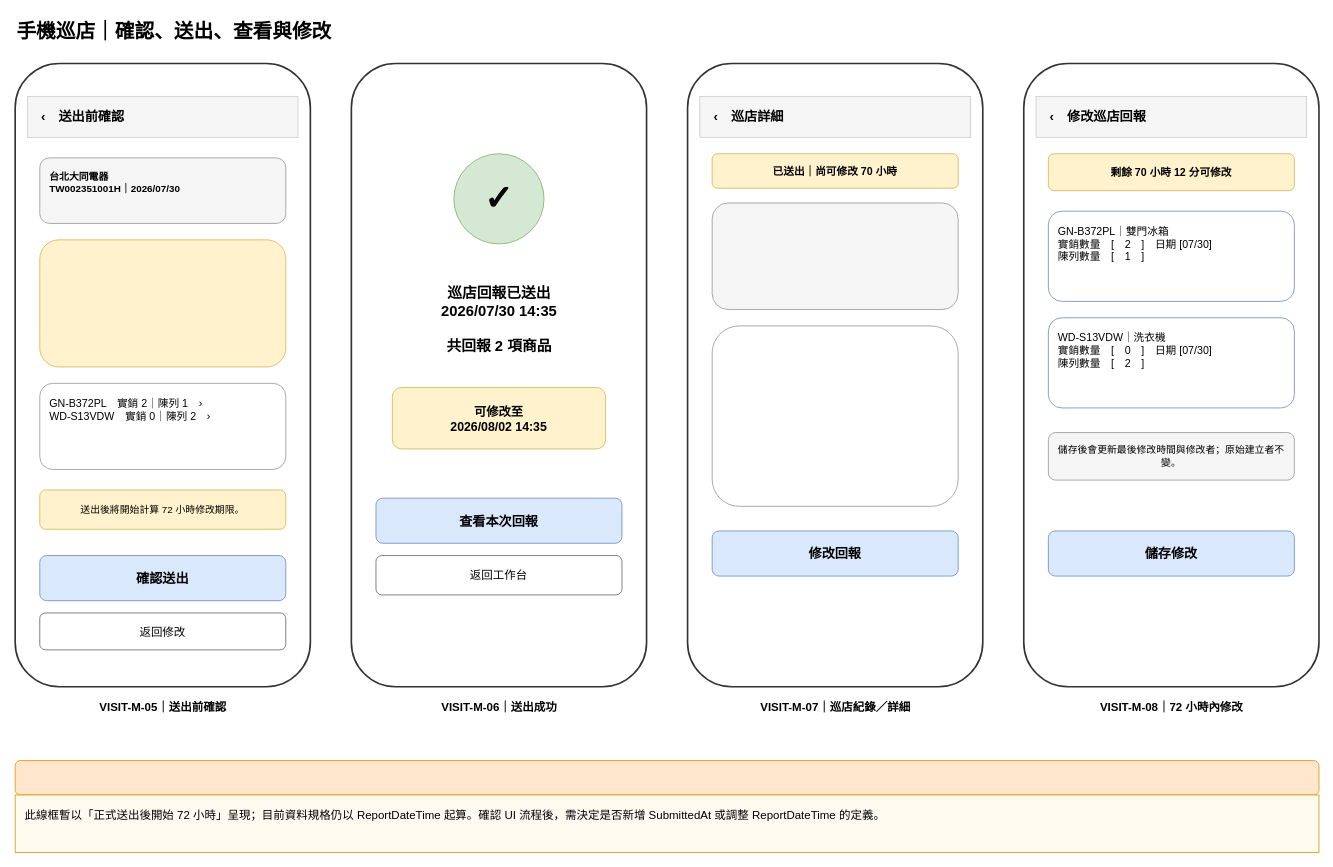
The diagram is 1333 pixels wide and 867 high, and some of its shapes have lost their labels. Here are the shapes that lost their labels. From the top down, the centre of each, then its label:
pixel 834 256: 台北大同電器 回報：2026/07/30 14:35 填寫者：王小明（業務） 正式負責：王小明
pixel 162 303: 本次填寫摘要 商品 2 項 有填實銷 2 項 明確回報為 0 1 項 有填陳列 2 項
pixel 834 415: 商品回報（2） GN-B372PL｜雙門冰箱 實銷 2（07/30）｜陳列 1 WD-S13VDW｜洗衣機 實銷 0（07/30）｜陳列 2
pixel 666 777: 需要確認
